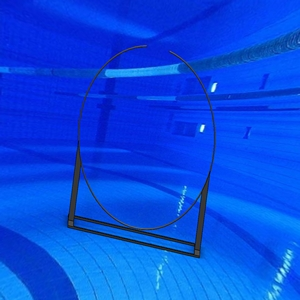circle: (67, 43, 217, 259)
